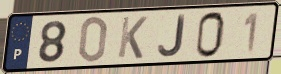0: (194, 10, 228, 59), (76, 15, 109, 65)
1: (242, 11, 259, 53)
8: (38, 19, 68, 63)
J: (157, 14, 187, 59)
K: (115, 15, 149, 60)
